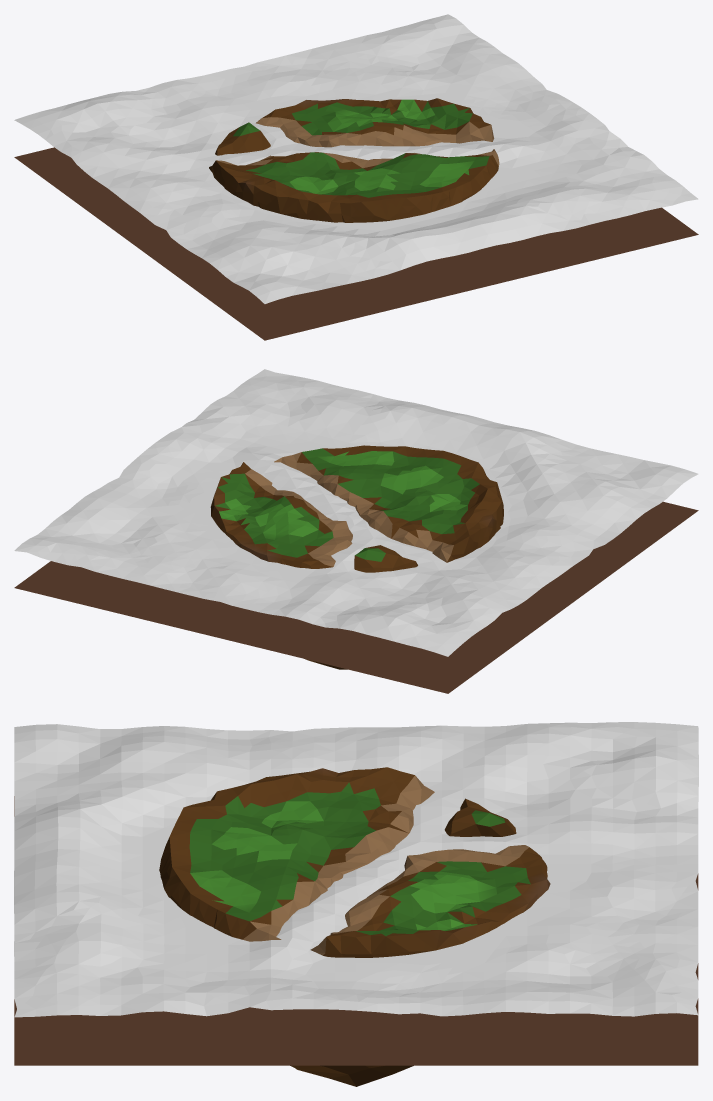
3 renders of one model, top to bottom at view 1: azimuth 30°, elevation 25°; view 2: azimuth 150°, elevation 25°; view 3: azimuth 270°, elevation 25°, orthographic. The views are drawn at different scales.
Parts seen in each view (by area): view 1: Icosphere; view 2: Icosphere; view 3: Icosphere.
Part boxes in pixels (left/top/right/bottom): Icosphere: left=14, top=14, right=698, bottom=340; Icosphere: left=14, top=369, right=698, bottom=693; Icosphere: left=14, top=722, right=698, bottom=1086.
Size of the model in its own units: 5005 by 1771 by 5009.
